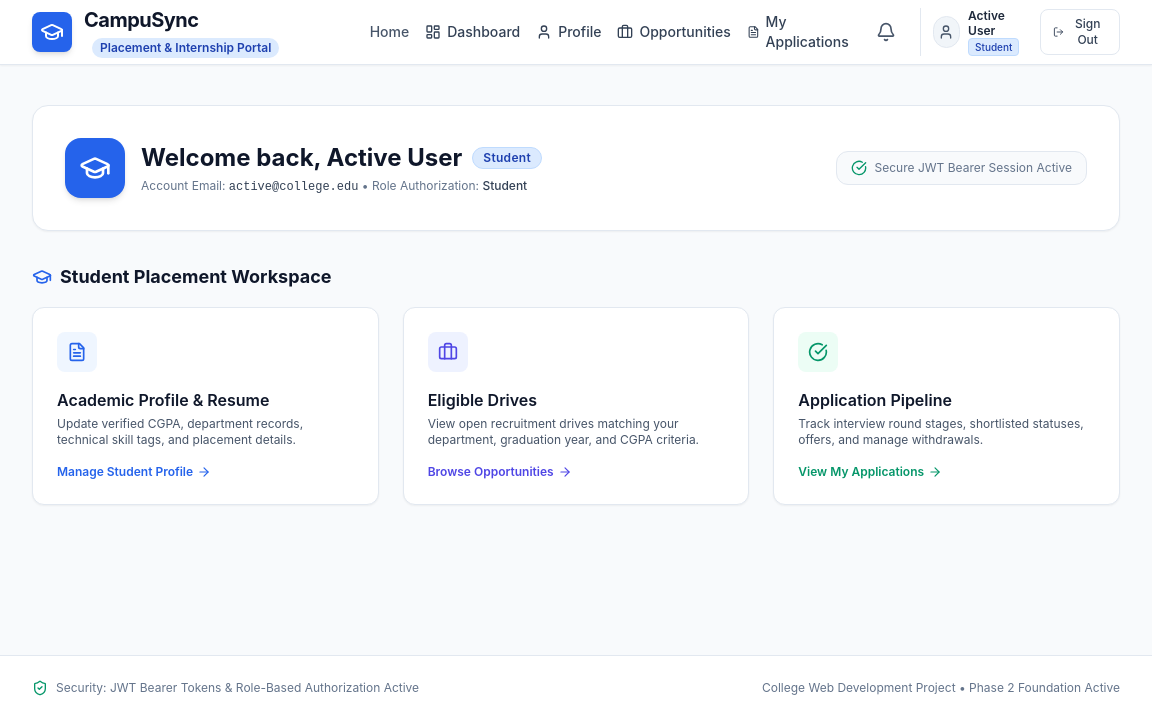
Scenario: CampuSync Frontend Application Flows › Authentication Flows › logs out user and clears token when sign out is clicked
Click the button with test id "logout-btn".
click(1080, 32)  # box [1040,9,1120,55]
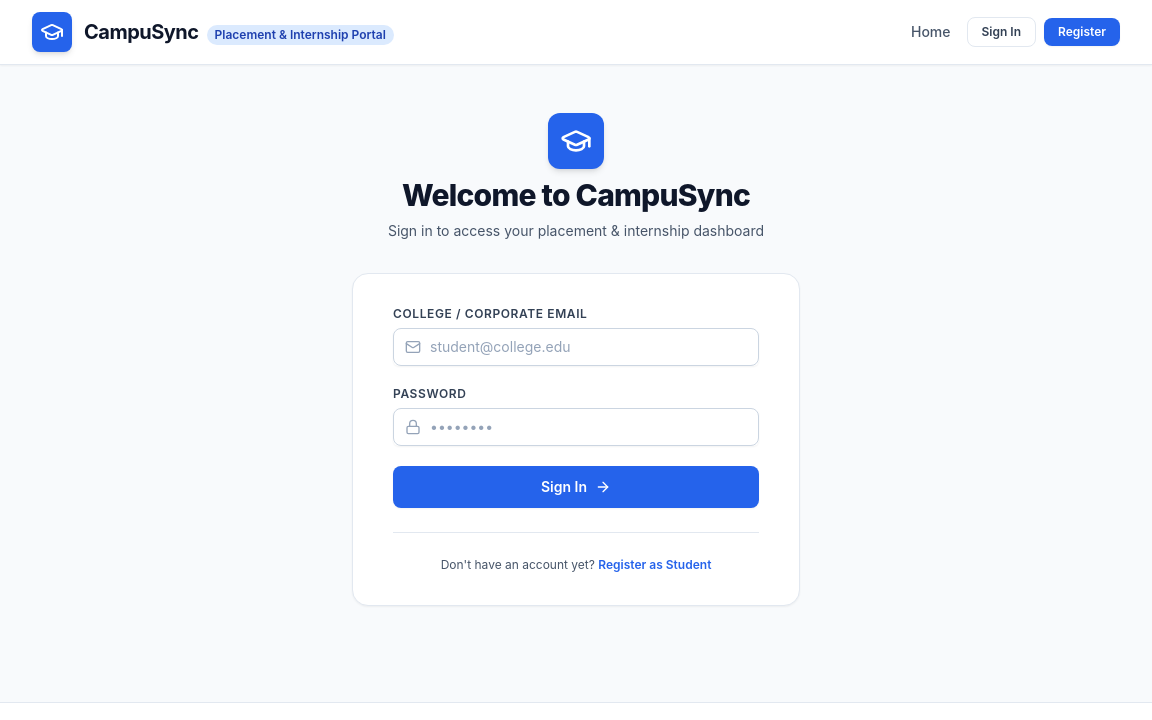
Expected: the link with test id "nav-login-link" is shown, [966,17,1036,47]
